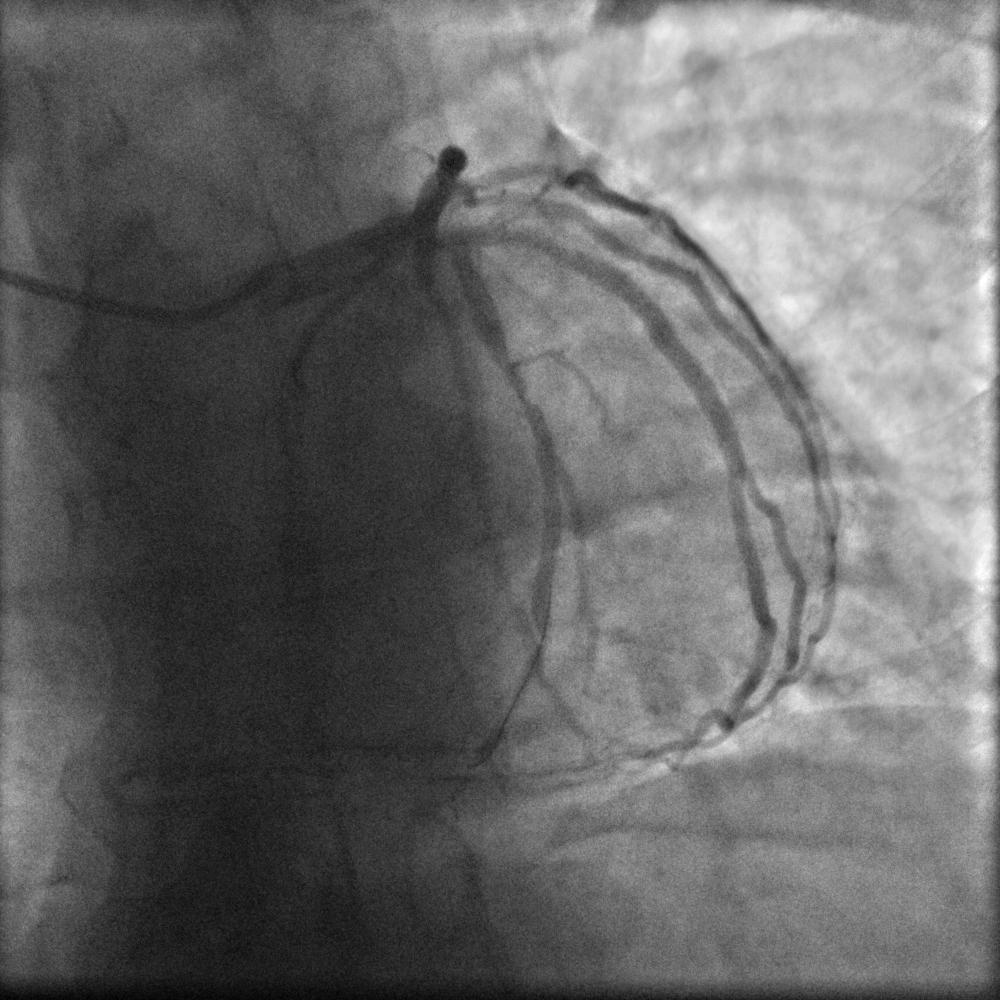Stenosis: (503, 353, 540, 425)
